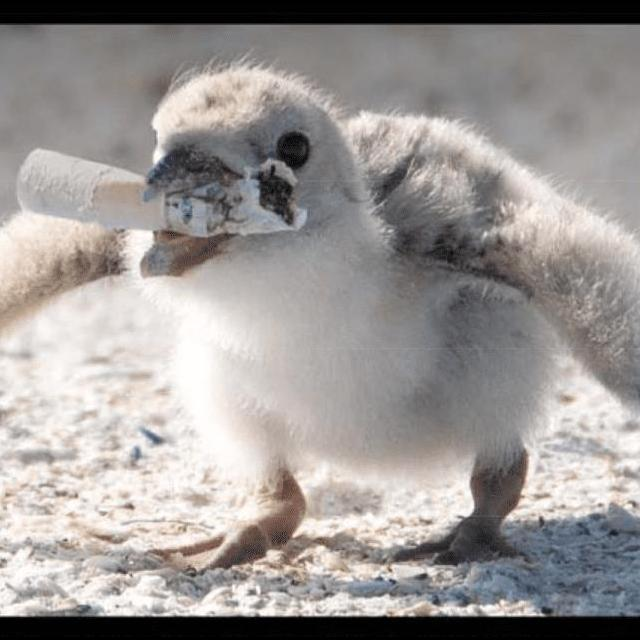Cigarette Butt: (16, 147, 311, 239)
